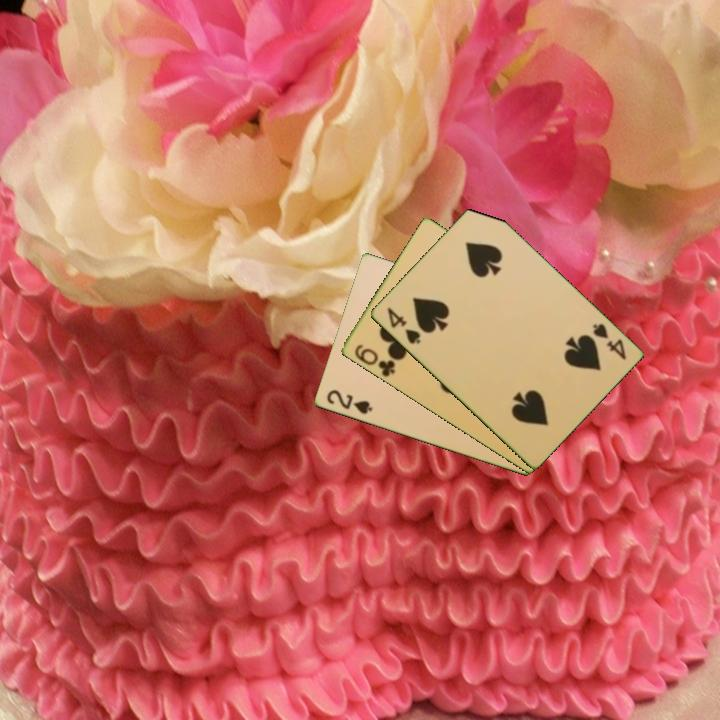2s: (323, 386, 375, 417)
4s: (588, 320, 629, 363), (383, 304, 423, 347)
6c: (351, 341, 398, 380)
